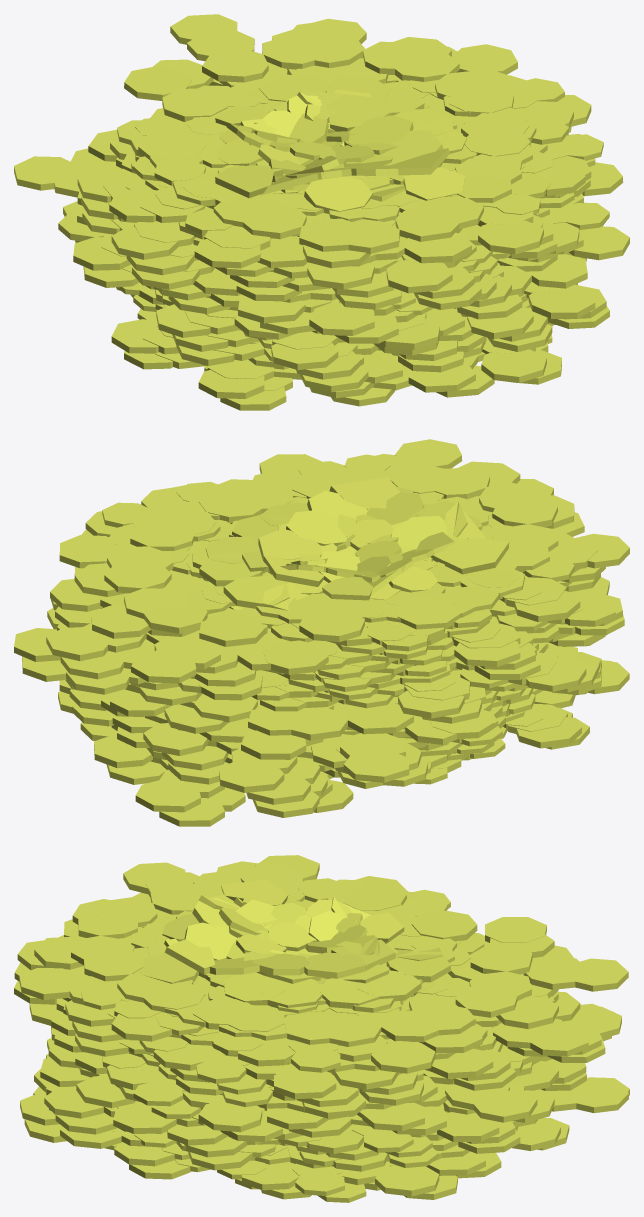
The model's file is enviro money medium.fbx.
The picture shows the model from 3 angles, top to bottom: view 1: azimuth 30°, elevation 25°; view 2: azimuth 150°, elevation 25°; view 3: azimuth 270°, elevation 25°; orthographic projection. The views are drawn at different scales.
Visible parts, largest first — view 1: Cylinder.021; view 2: Cylinder.021; view 3: Cylinder.021.
Boxes of the visible parts, x1,y1,x2,y2 form: Cylinder.021: [14, 14, 629, 410]; Cylinder.021: [14, 439, 629, 826]; Cylinder.021: [14, 855, 629, 1202].
Size of the model in its own units: 170 by 59.38 by 189.
